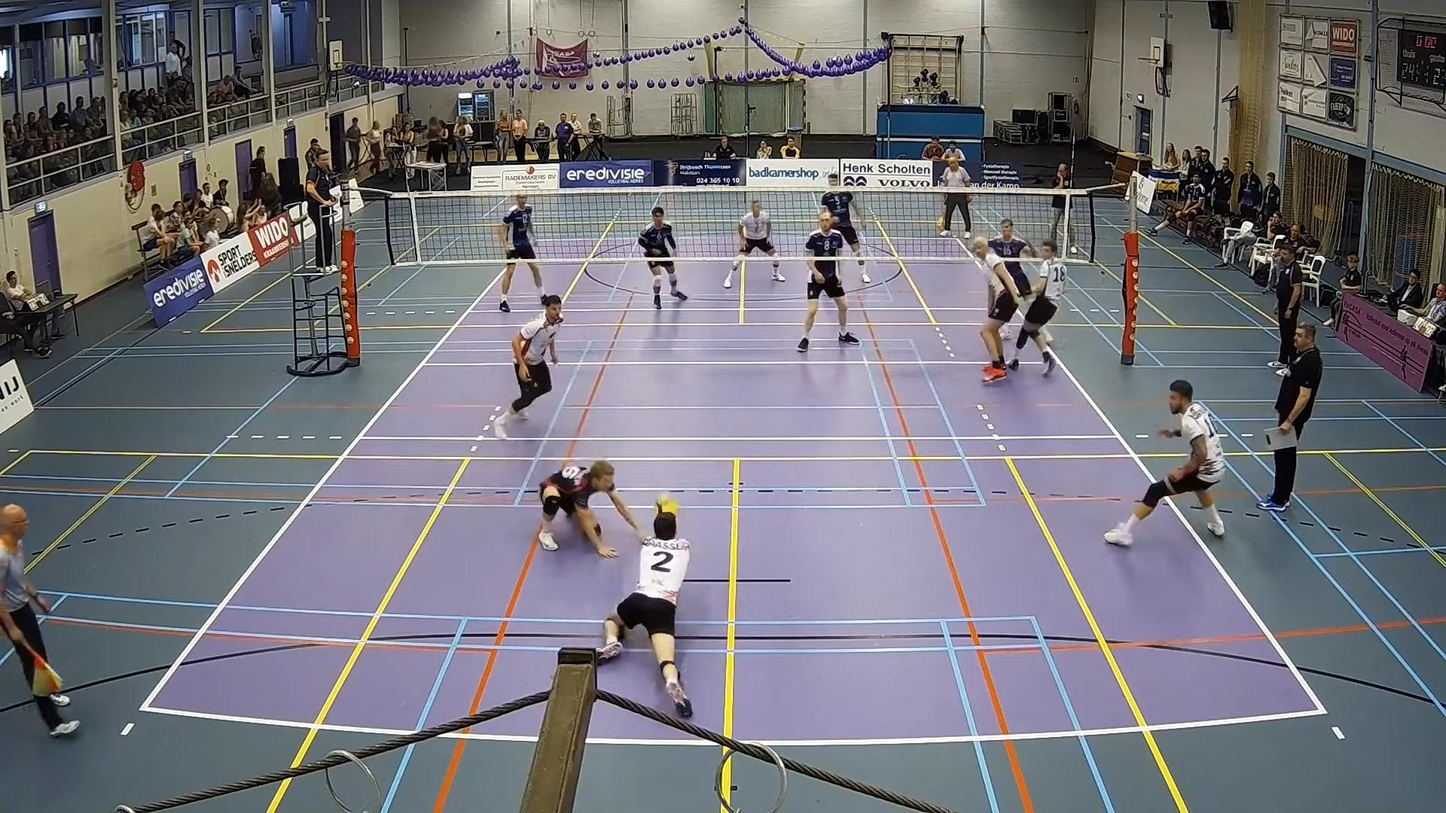Dig: (596, 492, 705, 722)
Player: (1105, 380, 1224, 546), (493, 294, 563, 439), (538, 461, 642, 557), (797, 212, 859, 352), (1008, 239, 1066, 374), (972, 236, 1020, 381), (821, 173, 871, 284), (499, 195, 546, 312), (724, 199, 784, 288), (637, 206, 687, 309), (989, 218, 1032, 297)
ball: (654, 491, 676, 513)
